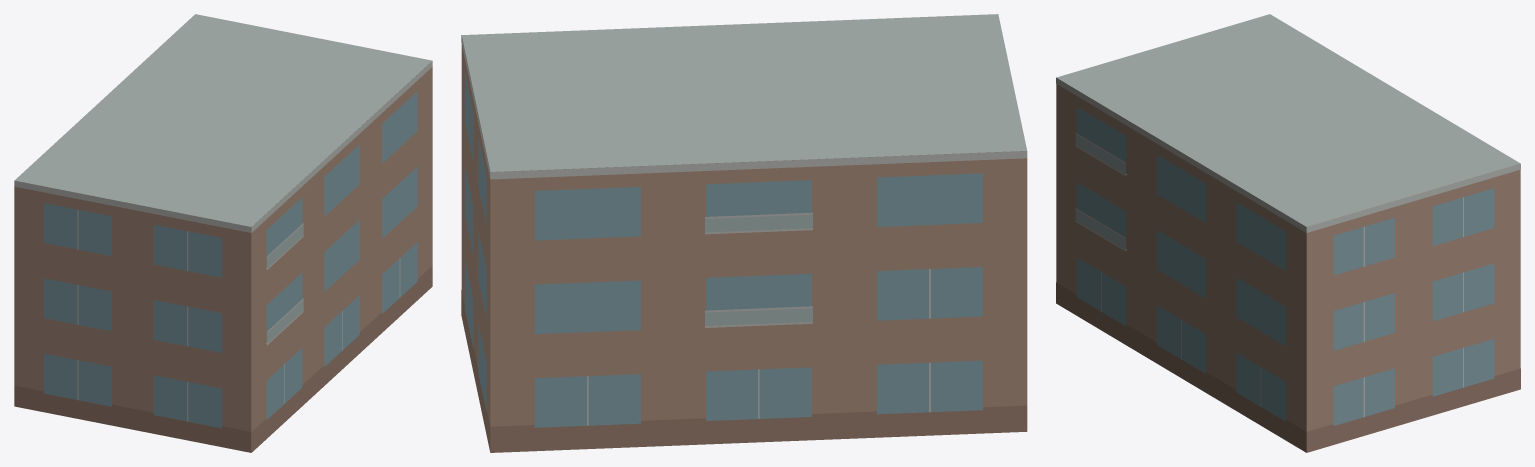
The model's file is survey-upis-32683207.glb.
The picture shows the model from 3 angles, left to right: view 1: azimuth 30°, elevation 25°; view 2: azimuth 150°, elevation 25°; view 3: azimuth 270°, elevation 25°; orthographic projection. The views are drawn at different scales.
Visible parts, largest first — view 1: survey-upis-32683207.tmp; view 2: survey-upis-32683207.tmp; view 3: survey-upis-32683207.tmp.
Part boxes in pixels (<box>): survey-upis-32683207.tmp: <box>14,14,432,452</box>; survey-upis-32683207.tmp: <box>461,14,1027,452</box>; survey-upis-32683207.tmp: <box>1056,14,1520,452</box>.
Size of the model in its own units: 18.52 by 9.15 by 17.07.
